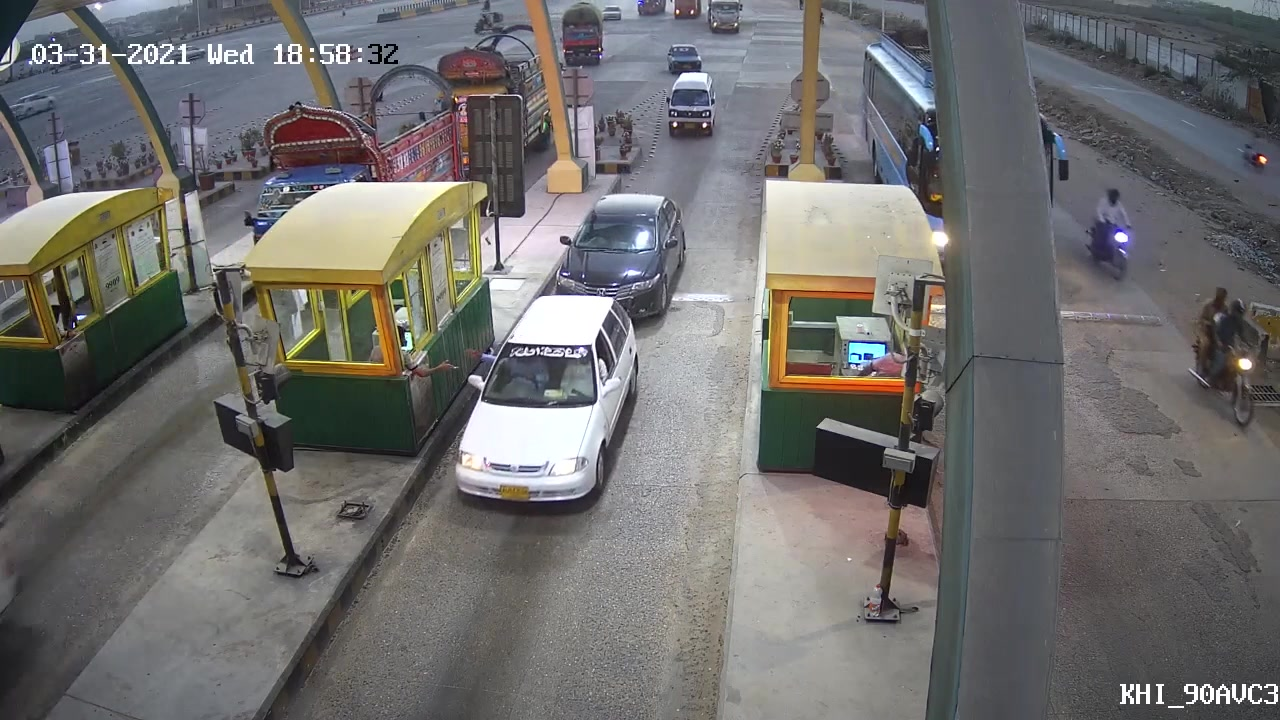F1: (443, 292, 647, 515), (550, 178, 693, 318)
